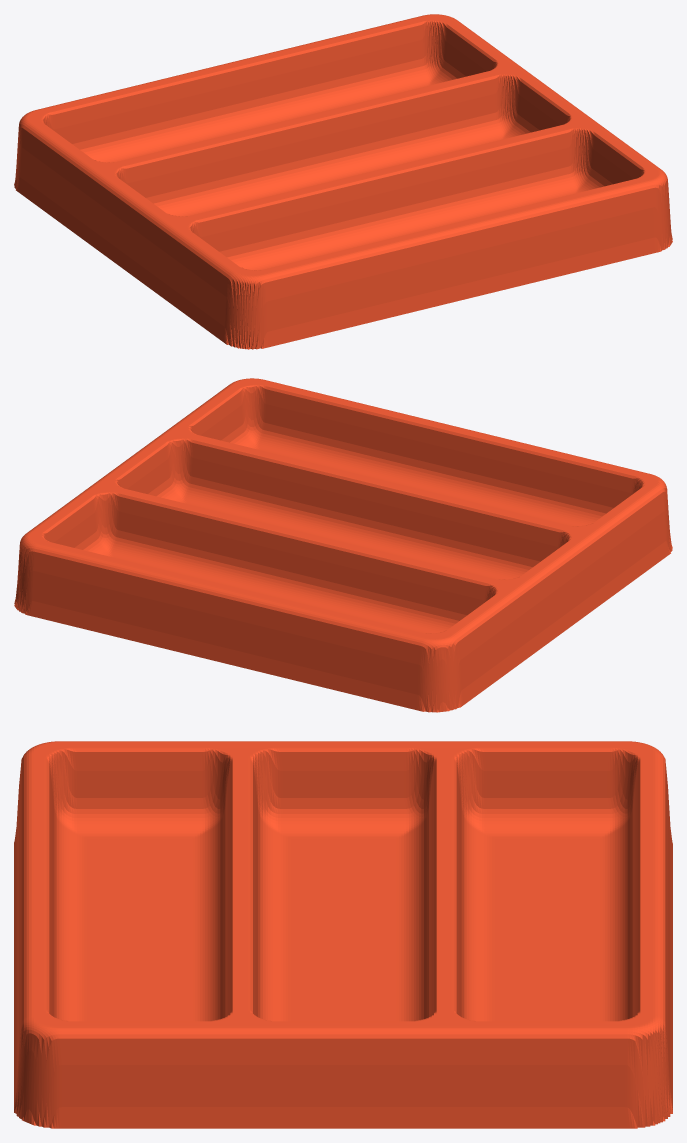
The model's file is mold.glb.
3 renders of one model, top to bottom at view 1: azimuth 30°, elevation 25°; view 2: azimuth 150°, elevation 25°; view 3: azimuth 270°, elevation 25°, orthographic. The views are drawn at different scales.
Visible parts, largest first — view 1: geometry_0; view 2: geometry_0; view 3: geometry_0.
Part boxes in pixels (x1,y1,x2,y2): geometry_0: (14, 14, 672, 349); geometry_0: (14, 378, 672, 712); geometry_0: (14, 741, 672, 1128).
Size of the model in its own units: 0.1415 by 0.0205 by 0.131.
